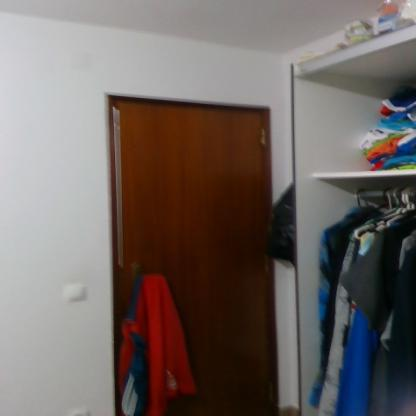door: (120, 101, 272, 416)
hinged: (258, 126, 270, 149), (262, 254, 271, 274), (268, 383, 275, 405)
